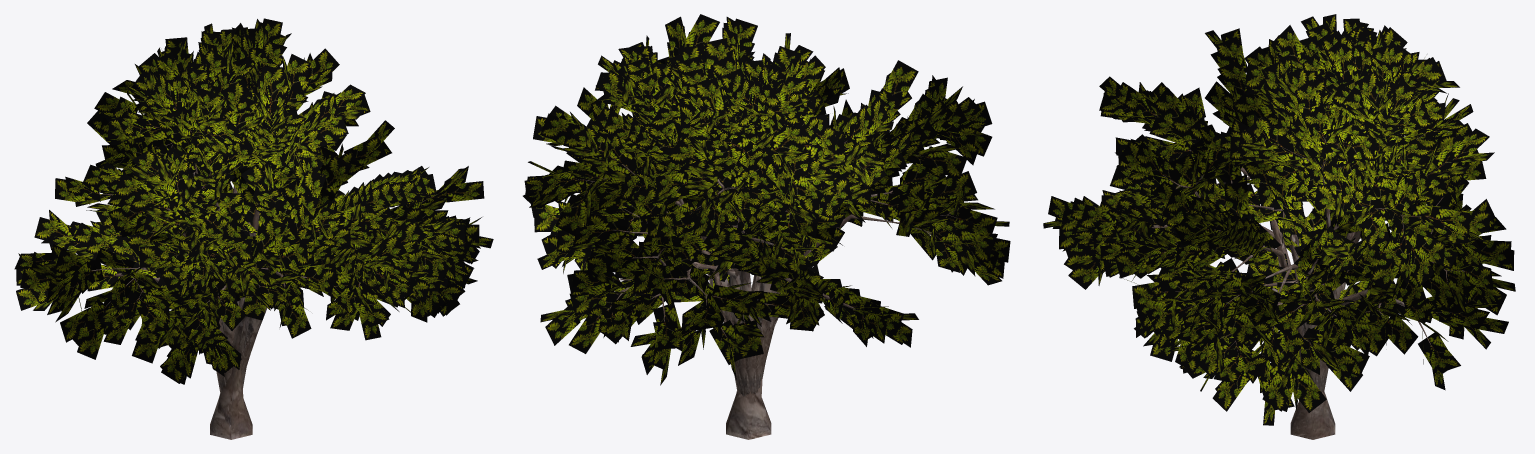
Rendered from Tree3.fbx.
3 views of the same model, side by side, from view 1: azimuth 30°, elevation 25°; view 2: azimuth 150°, elevation 25°; view 3: azimuth 270°, elevation 25° (orthographic). The views are drawn at different scales.
Parts seen in each view (by area): view 1: Tree3Leaves_LOD0, Tree3_LOD0; view 2: Tree3Leaves_LOD0, Tree3_LOD0; view 3: Tree3Leaves_LOD0, Tree3_LOD0.
Boxes of the visible parts, x1,y1,x2,y2 form: Tree3Leaves_LOD0: (14,18,493,384); Tree3_LOD0: (76,89,444,439); Tree3Leaves_LOD0: (523,14,1010,385); Tree3_LOD0: (576,100,967,439); Tree3Leaves_LOD0: (1043,14,1515,425); Tree3_LOD0: (1150,83,1465,439).
Size of what is drawn, in the model's own units: 989 by 800 by 876.
